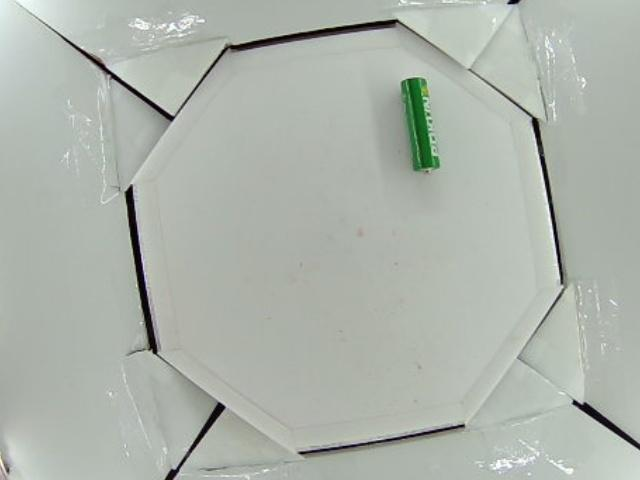Battery: (397, 76, 441, 173)
